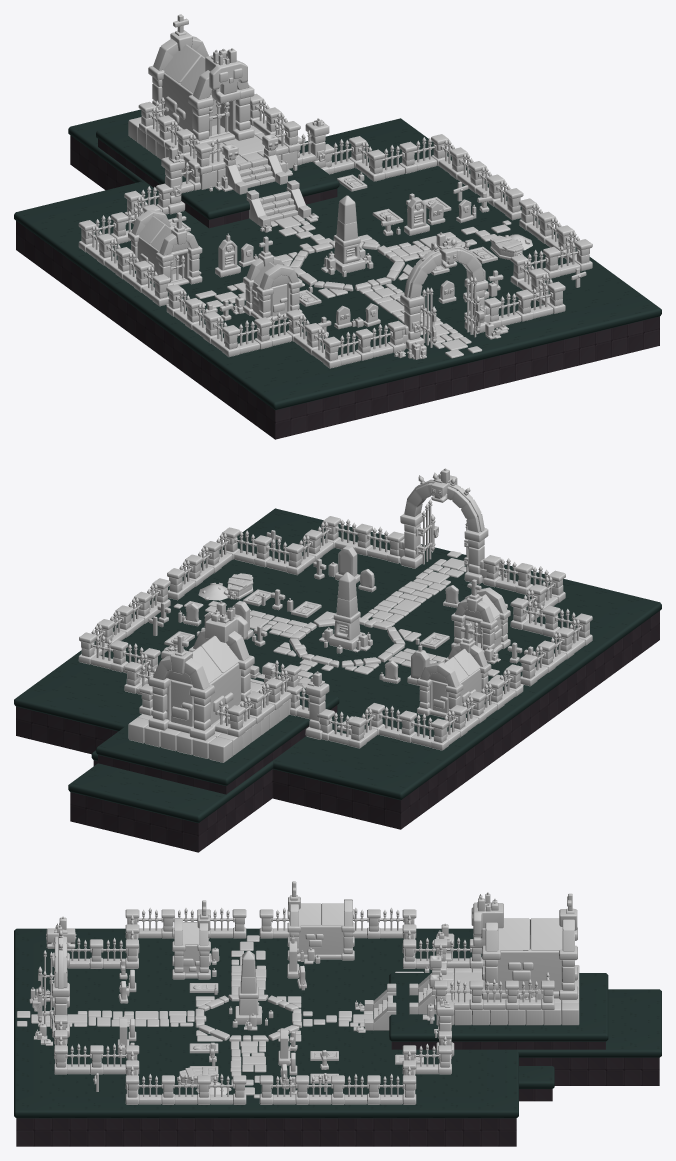
File: sample.fbx
3 renders of one model, top to bottom at view 1: azimuth 30°, elevation 25°; view 2: azimuth 150°, elevation 25°; view 3: azimuth 270°, elevation 25°, orthographic. The views are drawn at different scales.
Parts seen in each view (by area): view 1: cemetery_sample, grass2, ground; view 2: cemetery_sample, grass2, ground; view 3: grass2, cemetery_sample, ground.
Part boxes in pixels (<box>): cemetery_sample: <box>78,14,592,368</box>; grass2: <box>14,109,661,410</box>; ground: <box>16,135,659,439</box>; cemetery_sample: <box>78,468,592,762</box>; grass2: <box>14,508,661,823</box>; ground: <box>16,611,659,852</box>; grass2: <box>14,928,661,1118</box>; cemetery_sample: <box>16,881,579,1104</box>; ground: <box>16,1041,659,1146</box>.
Size of the model in its own units: 2425 by 998 by 3625.
